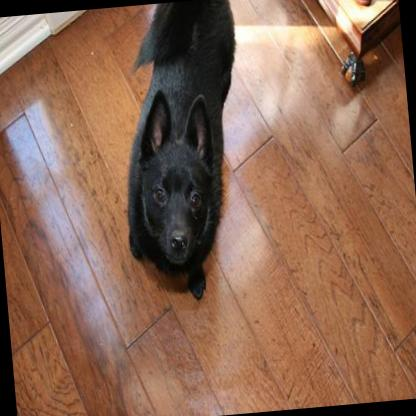schipperke: (106, 0, 258, 303)
